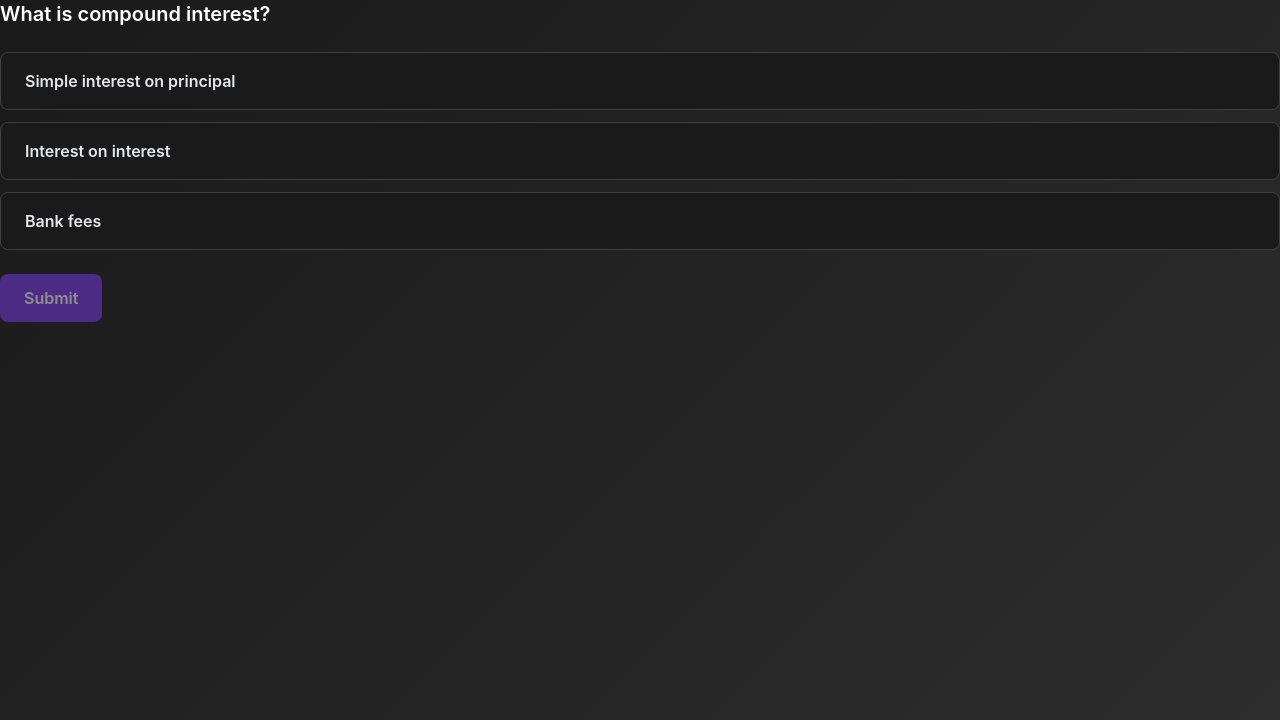
Scenario: Quiz Component › Submit with Incorrect Answer › should show incorrect feedback when submitting wrong answer
Click the button "Simple interest on principal": (130, 81) [0, 52, 1279, 110]
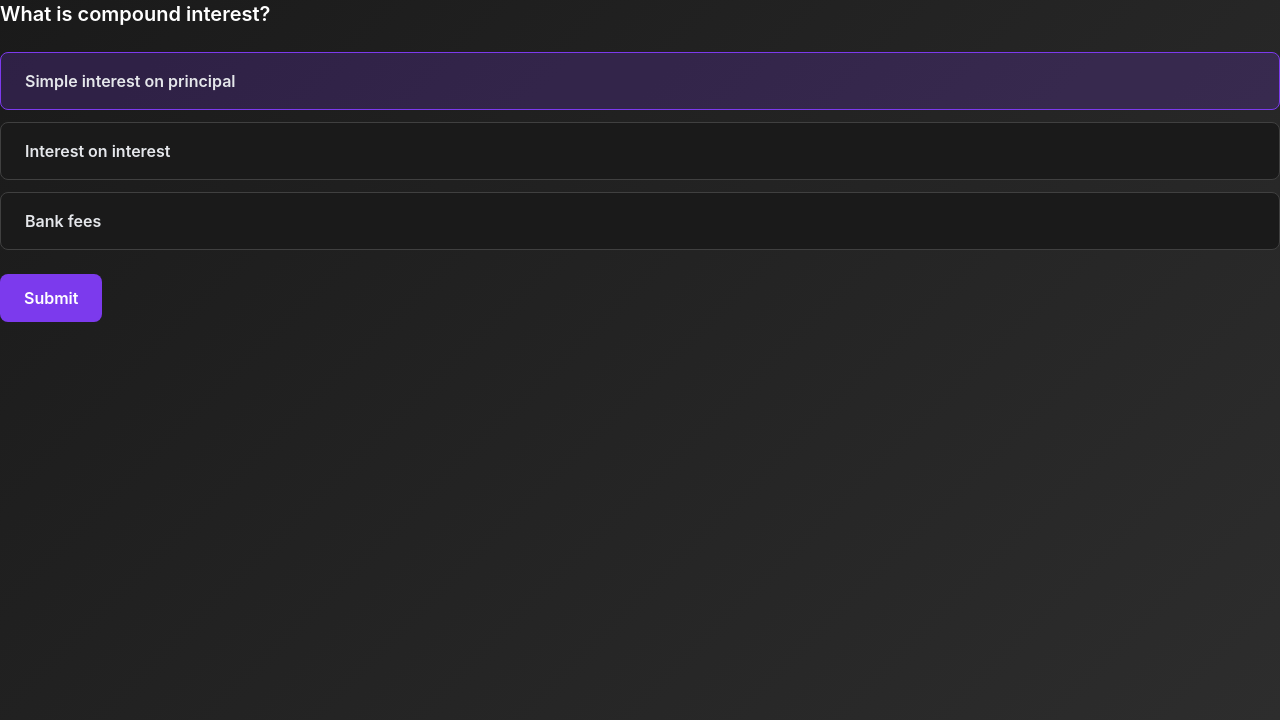
Click the button "Submit": (51, 298) [0, 274, 102, 322]
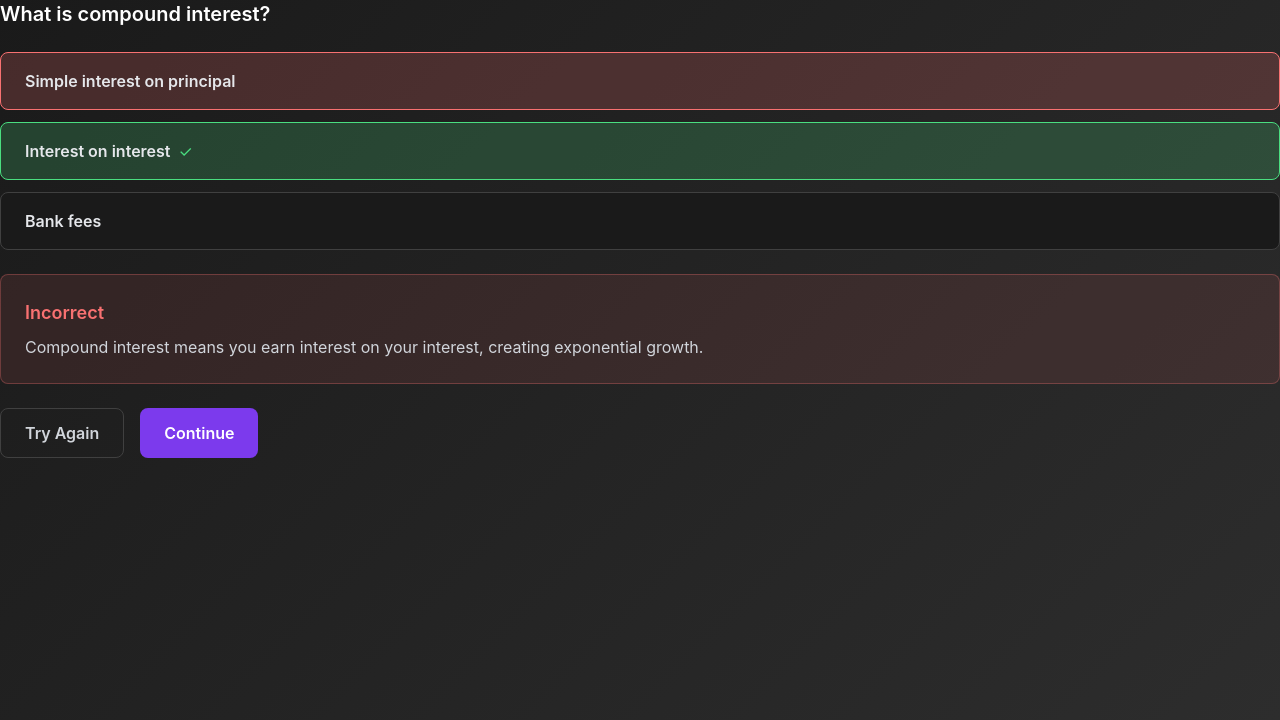
Expected: the heading "Incorrect" is shown, [25, 302, 104, 323]
Expected: the text "Compound interest means you earn interest on your interest" is shown, [25, 337, 703, 357]
Expected: the button "Try Again" is shown, [0, 408, 124, 458]
